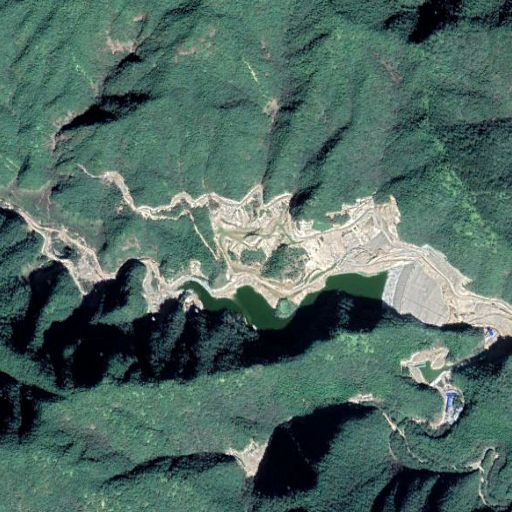tp: (175, 258, 453, 334)
